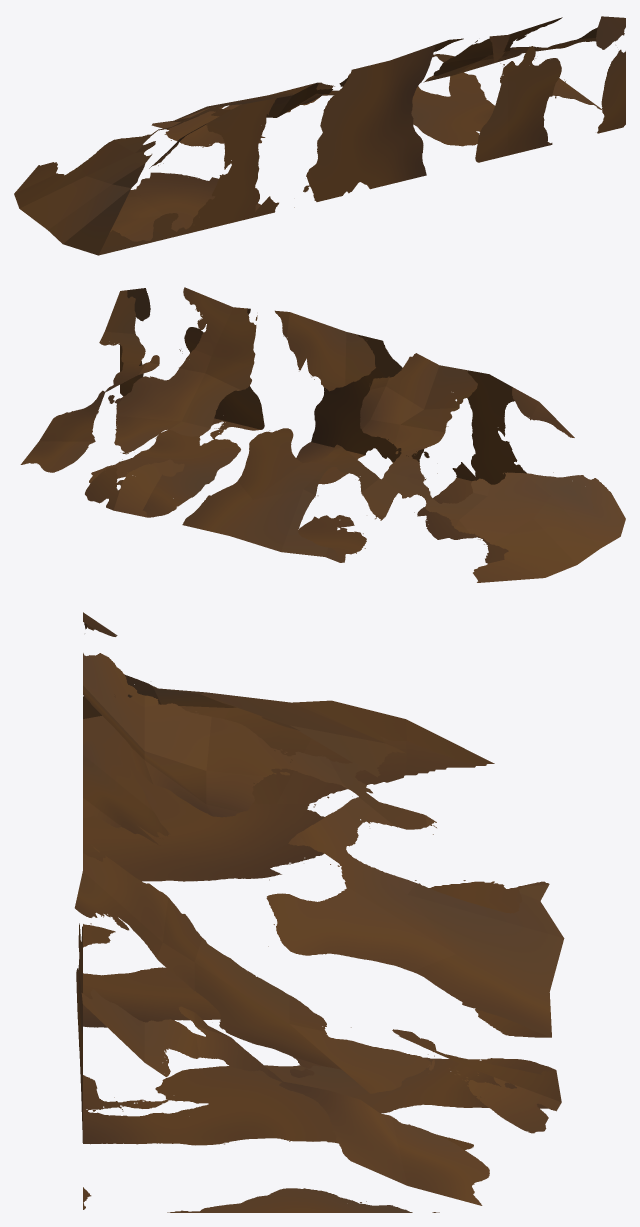
File: Collin_dirtPileCornerEndR.fbx
3 renders of one model, top to bottom at view 1: azimuth 30°, elevation 25°; view 2: azimuth 150°, elevation 25°; view 3: azimuth 270°, elevation 25°, orthographic. The views are drawn at different scales.
Parts seen in each view (by area): view 1: dirtagainst_wallEndR; view 2: dirtagainst_wallEndR; view 3: dirtagainst_wallEndR.
Part boxes in pixels (left/top/right/bottom): dirtagainst_wallEndR: left=14, top=16, right=625, bottom=255; dirtagainst_wallEndR: left=20, top=287, right=625, bottom=582; dirtagainst_wallEndR: left=74, top=612, right=564, bottom=1212.
Size of the model in its own units: 13.83 by 3.17 by 5.68.
Materials: 1 (1 with a texture image).
